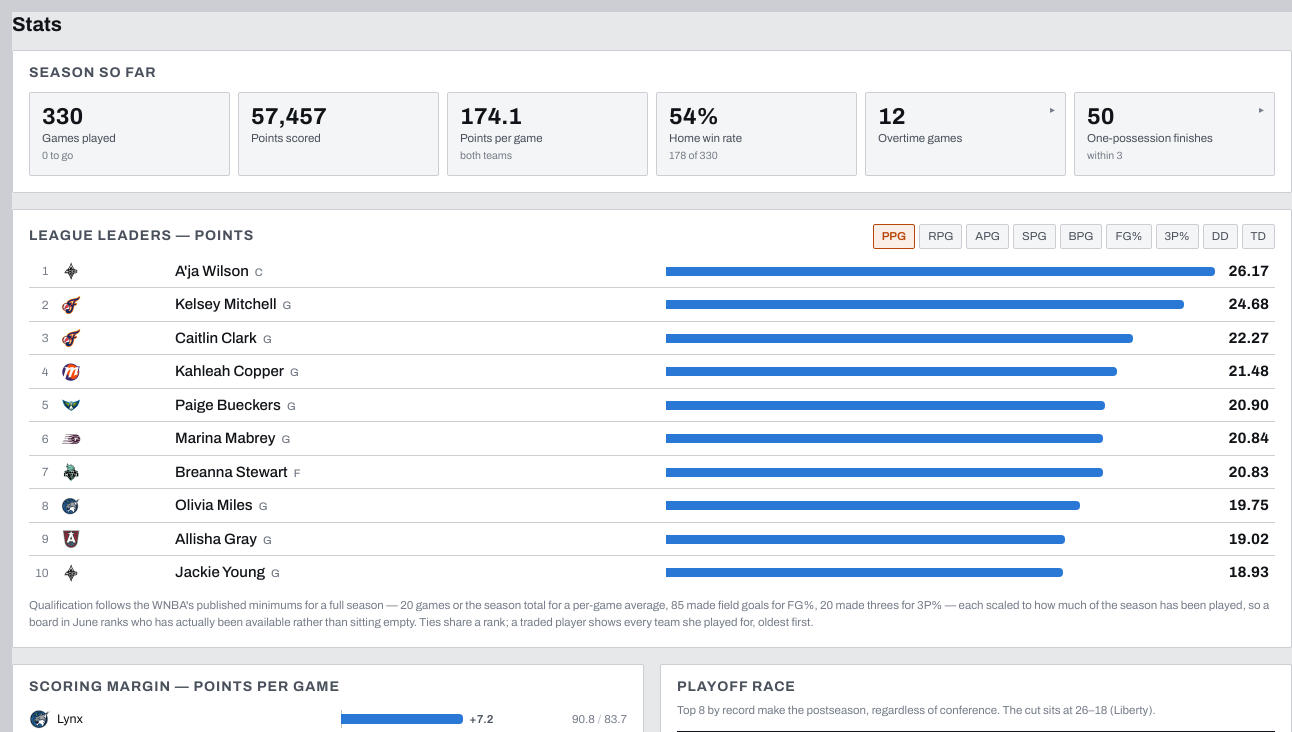
Test case: StatsView coverage › switches the leaders category to a percentage and a count
Step 1. Click the button "FG%" → [1129, 237], box [1106,224,1152,249]
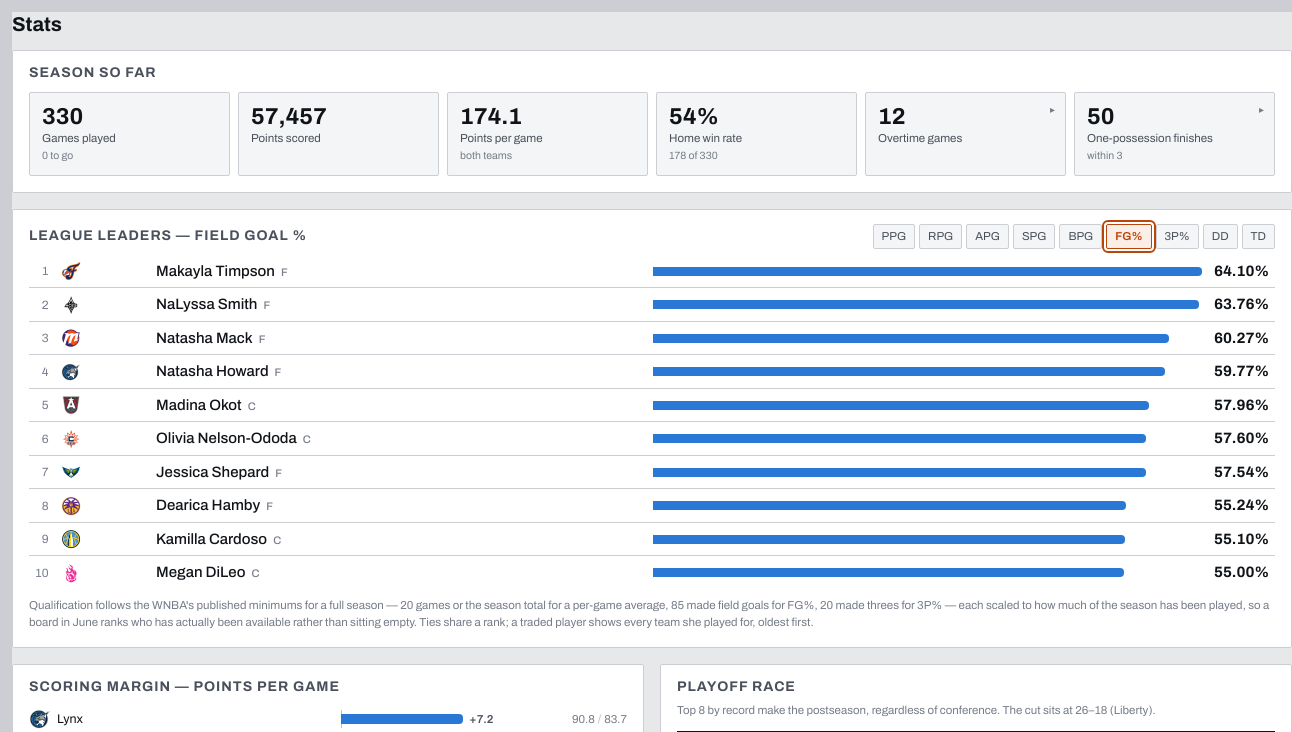
Check: the heading "League leaders — Field goal %" is shown, box [29,228,307,245]
Check: the cell with class "lead-value" shows "%", box [1208,255,1275,288]
Step 2. Click the button "DD" → [1220, 237], box [1203,224,1238,249]
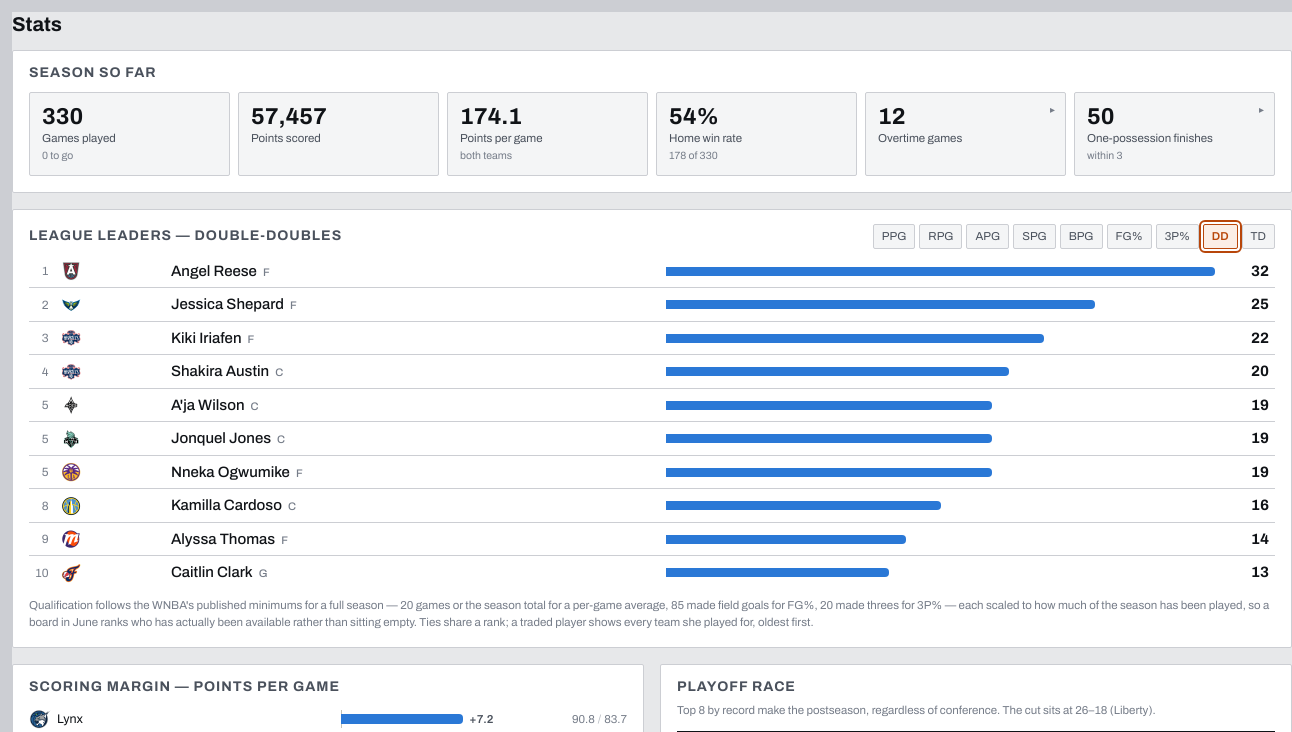
Check: the heading "League leaders — Double-doubles" is shown, box [29,228,342,245]
Check: the cell with class "lead-value" reads "32", box [1251,263,1269,279]
